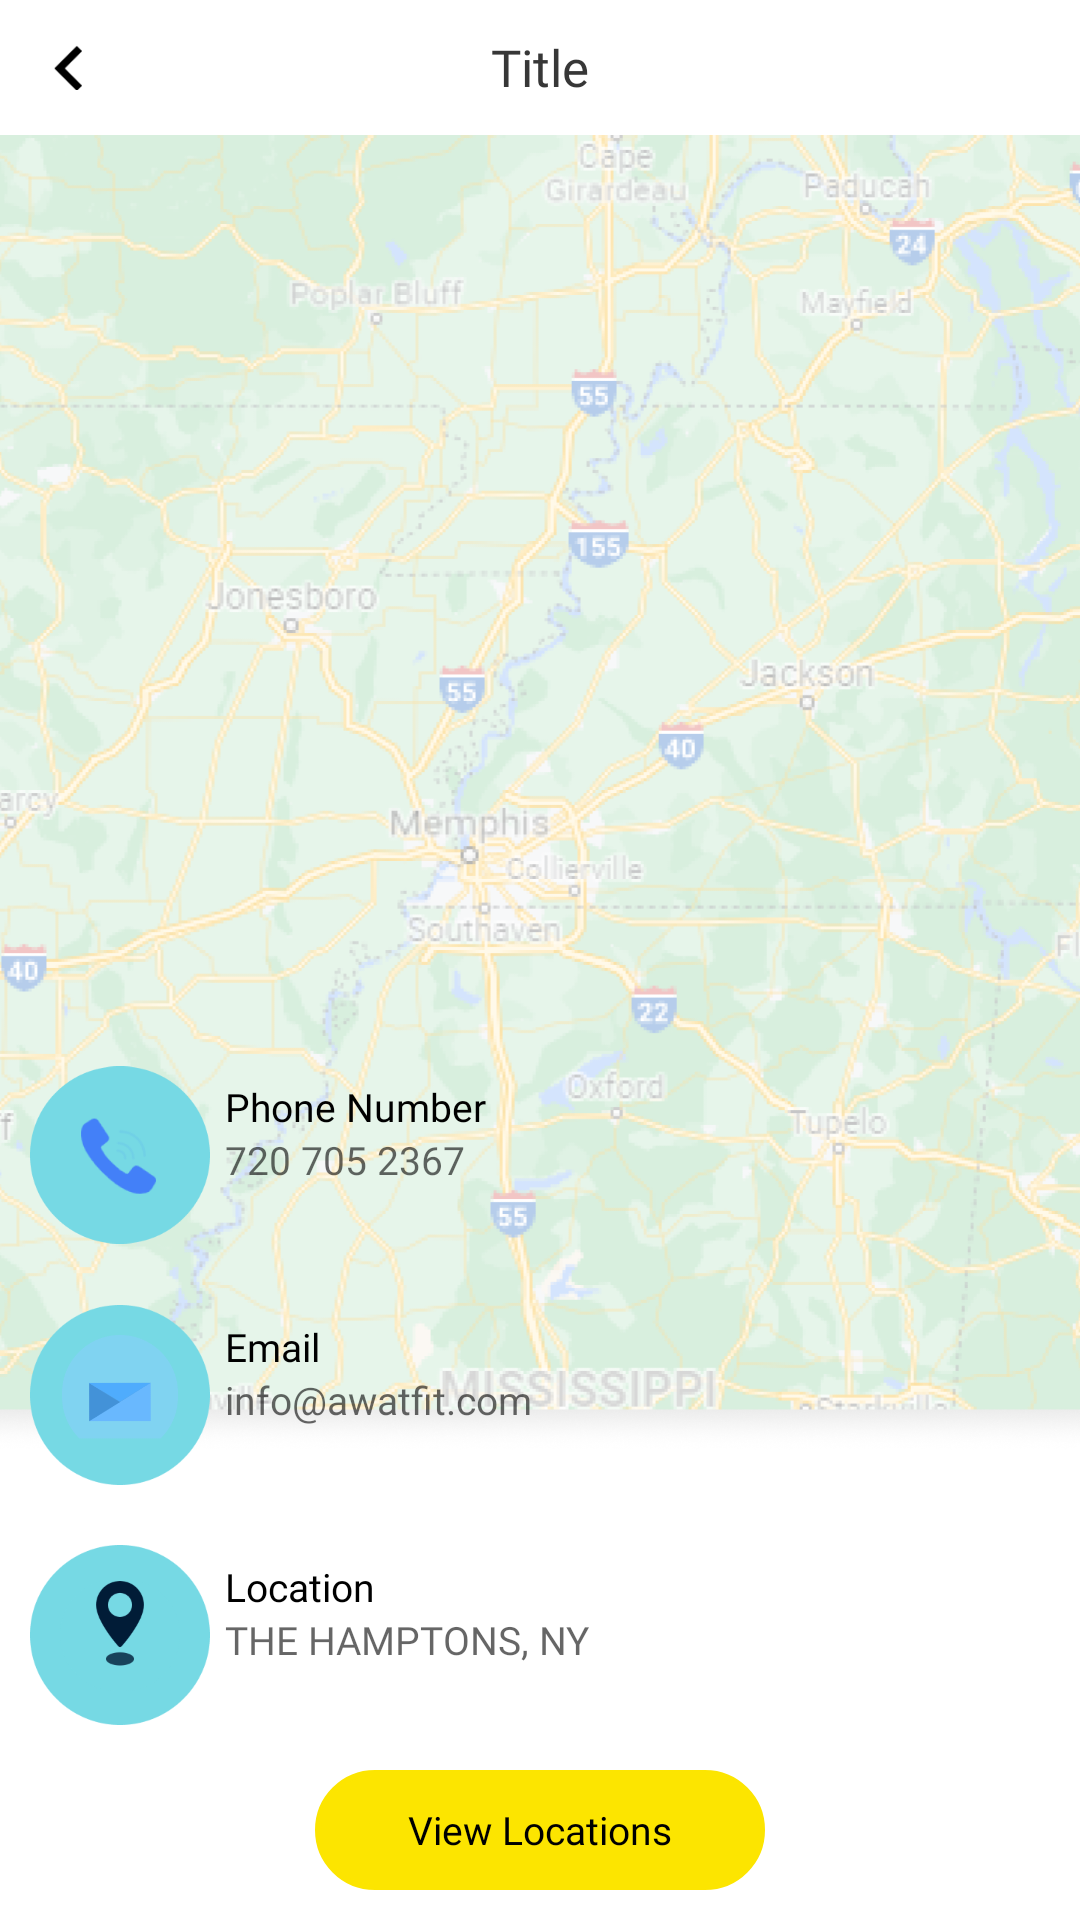

Where to tap for icons on this 1080 x 1920 app screen, as (x=x, y=y):
left arrow: (x=68, y=68)
